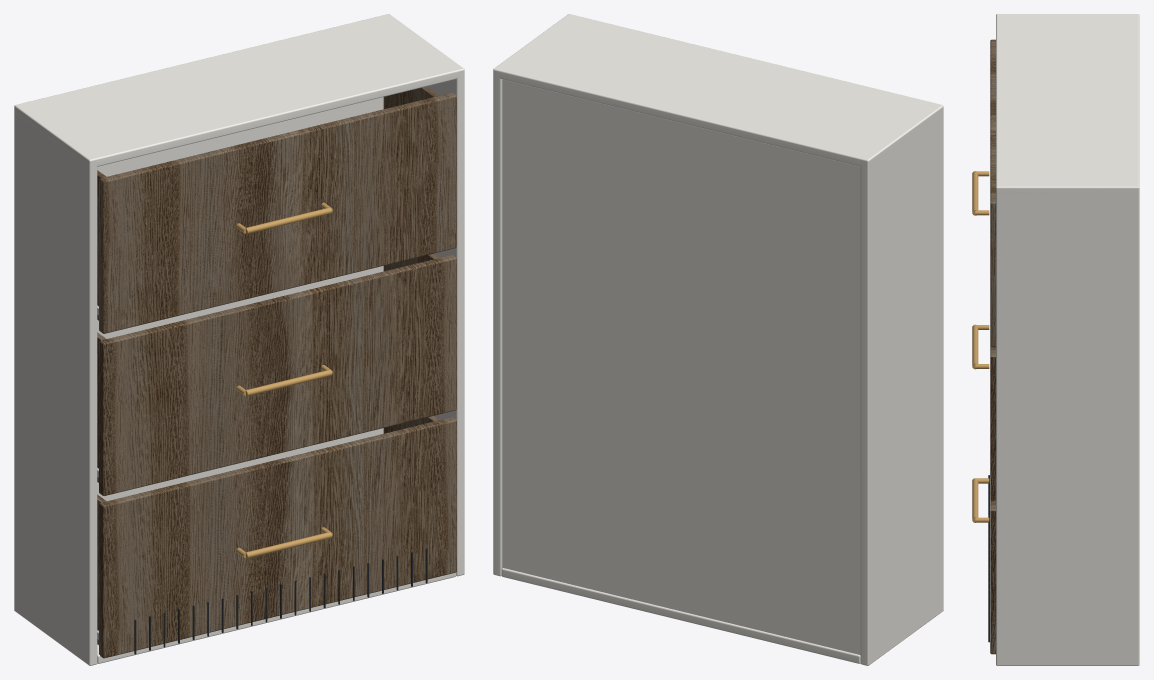
File: detail-shoe.glb
3 renders of one model, left to right at view 1: azimuth 30°, elevation 25°; view 2: azimuth 150°, elevation 25°; view 3: azimuth 270°, elevation 25°, orthographic. The views are drawn at different scales.
Parts seen in each view (by area): view 1: 抽屉独立面板.002, 抽屉独立面板.001, 抽屉独立面板, 左侧板, 顶板, 嵌入式背板, 右侧板, 底板, 抽屉侧帮.005; view 2: 嵌入式背板, 左侧板, 顶板, 右侧板, 底板; view 3: 右侧板, 顶板, 抽屉独立面板.002, 抽屉独立面板, 抽屉独立面板.001, 圆角金属拉手, 圆角金属拉手.001, 圆角金属拉手.002.
Boxes of the visible parts, <box> form: 抽屉独立面板.002: <box>99,92,456,333</box>; 抽屉独立面板.001: <box>99,255,456,495</box>; 抽屉独立面板: <box>99,417,456,658</box>; 左侧板: <box>14,107,97,665</box>; 顶板: <box>14,14,464,167</box>; 嵌入式背板: <box>97,97,383,501</box>; 右侧板: <box>427,70,464,576</box>; 底板: <box>97,572,456,663</box>; 抽屉侧帮.005: <box>383,86,438,108</box>; 嵌入式背板: <box>502,79,860,655</box>; 左侧板: <box>860,107,943,665</box>; 顶板: <box>493,14,943,167</box>; 右侧板: <box>493,70,502,576</box>; 底板: <box>501,568,860,663</box>; 右侧板: <box>996,186,1139,665</box>; 顶板: <box>996,14,1139,193</box>; 抽屉独立面板.002: <box>990,39,995,346</box>; 抽屉独立面板: <box>990,500,995,654</box>; 抽屉独立面板.001: <box>990,346,995,500</box>; 圆角金属拉手: <box>972,478,978,522</box>; 圆角金属拉手.001: <box>972,324,978,369</box>; 圆角金属拉手.002: <box>972,171,978,215</box>.
Bounding box in the file's own units: 0.8 × 1.03 × 0.326.
Materials: 5 (1 with a texture image).
